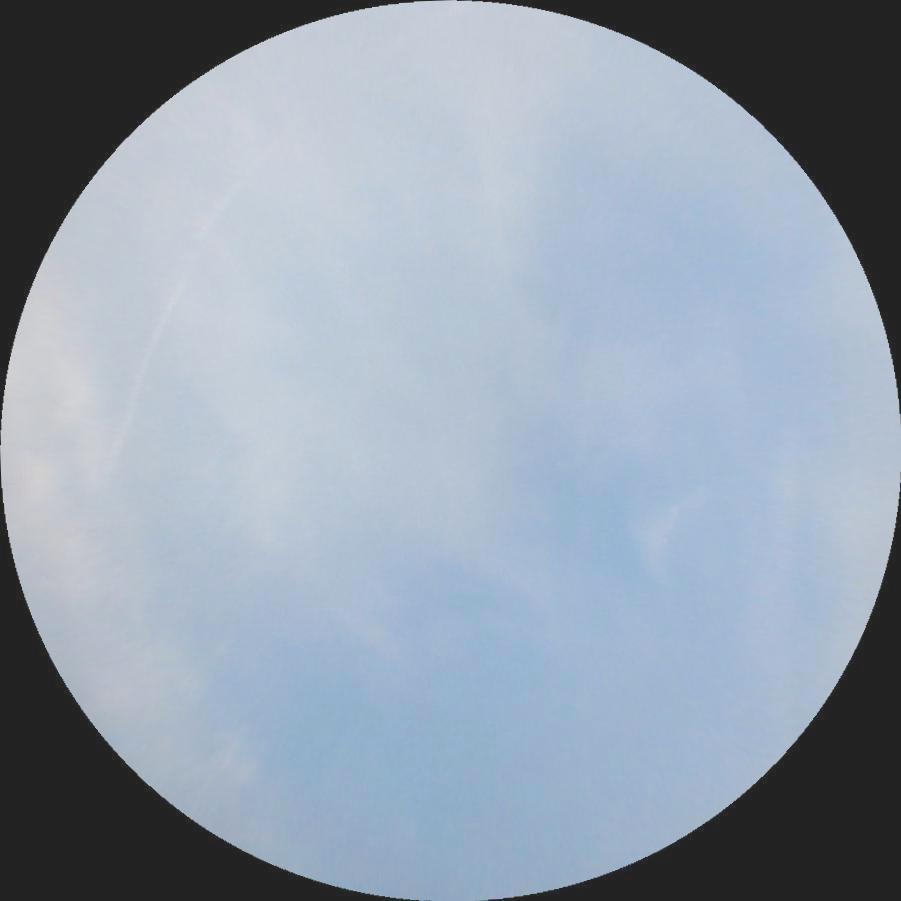contrail old: (76, 116, 285, 479)
